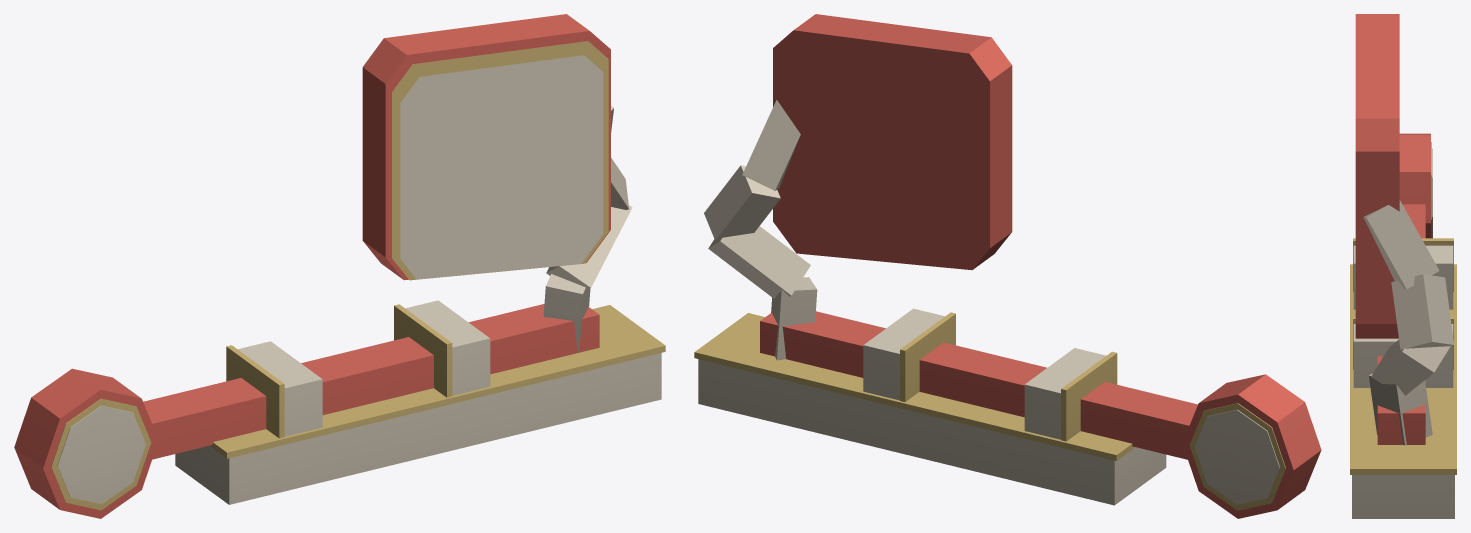
Rendered from pull-tab.glb.
3 views of the same model, side by side, from view 1: azimuth 30°, elevation 25°; view 2: azimuth 150°, elevation 25°; view 3: azimuth 270°, elevation 25° (orthographic). The views are drawn at different scales.
Visible parts, largest first — view 1: root_mesh, bob_mesh; view 2: root_mesh, bob_mesh; view 3: root_mesh, bob_mesh.
Boxes of the visible parts, bbox=[...] form: root_mesh: bbox=[175, 14, 665, 504]; bob_mesh: bbox=[14, 304, 599, 518]; root_mesh: bbox=[694, 14, 1166, 505]; bob_mesh: bbox=[760, 311, 1321, 518]; root_mesh: bbox=[1350, 14, 1456, 518]; bob_mesh: bbox=[1377, 133, 1432, 444].
Bounding box in the file's own units: 1.9 × 1.2 × 0.3.
